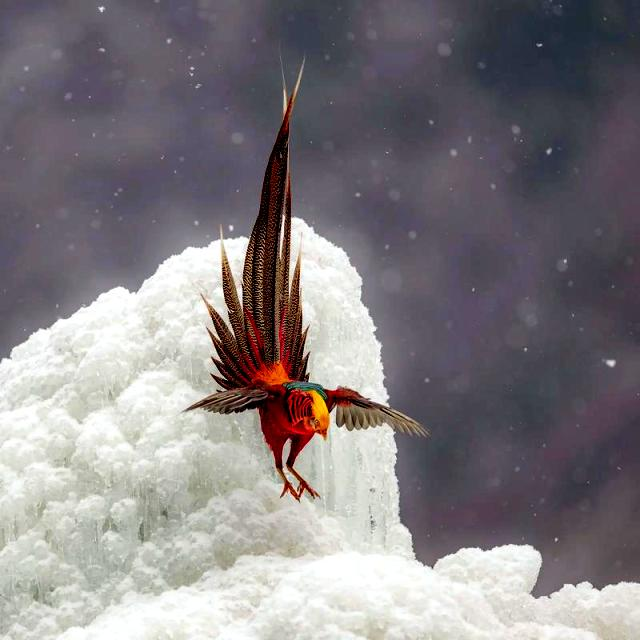Chrysolophus pictus feather: (201, 52, 310, 390)
